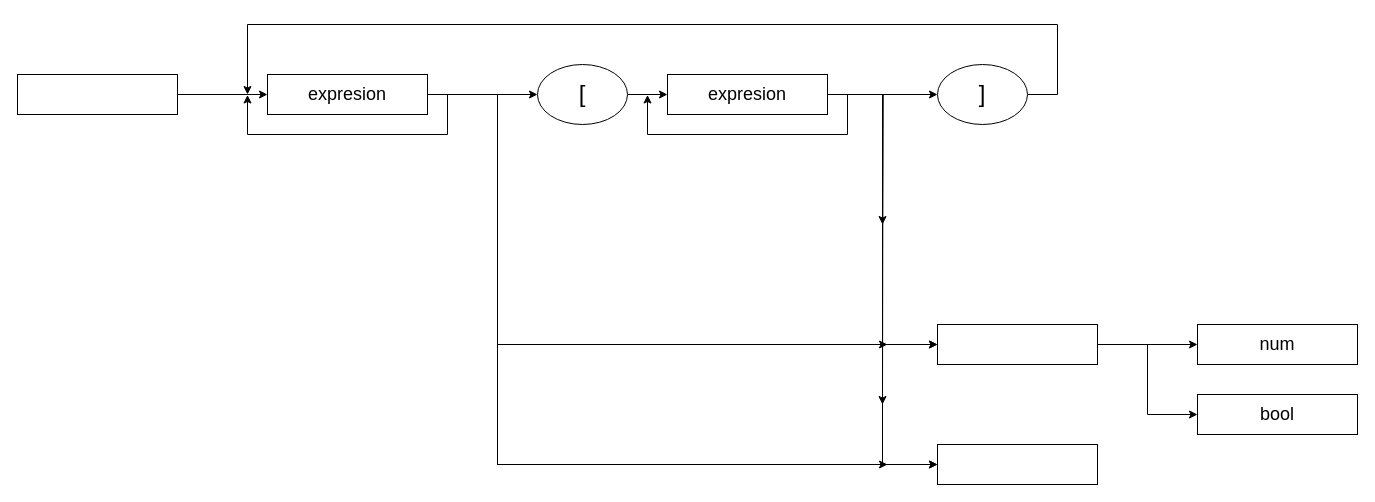
Image size: 1375x502. Some labels were removed from this diagram. Here are the shapes that lost their labels. From the top down, the centre of each, then its label:
At point (97, 94): "programa".
At point (1017, 344): "literal".
At point (1017, 464): "funcion".
